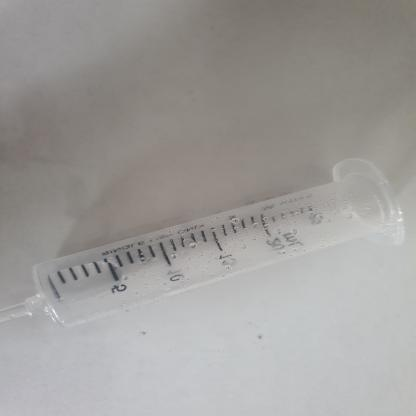wet: (3, 153, 399, 342)
